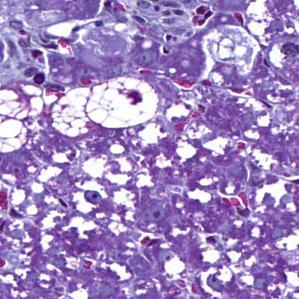ballooning: (50, 73, 161, 138), (3, 80, 48, 157)
